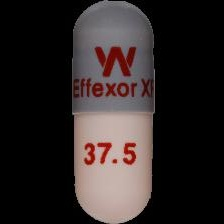55154-4219: (0, 0, 224, 224)
